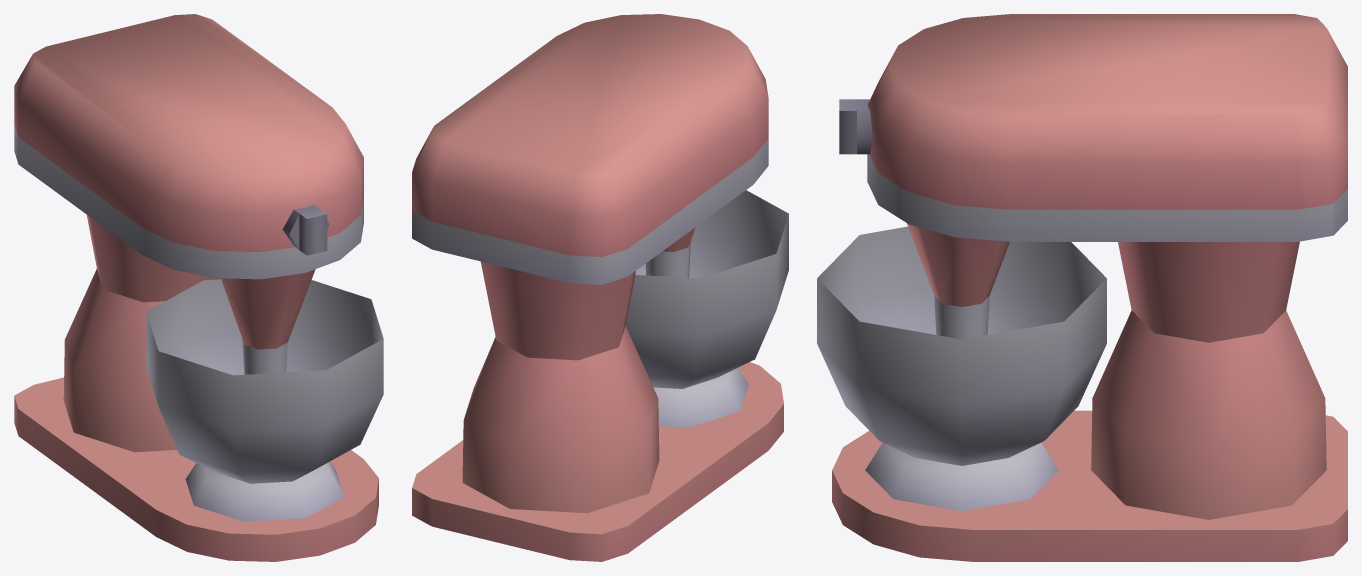
File: baking-machine.glb
3 views of the same model, side by side, from view 1: azimuth 30°, elevation 25°; view 2: azimuth 150°, elevation 25°; view 3: azimuth 270°, elevation 25° (orthographic). The views are drawn at different scales.
Visible parts, largest first — view 1: baking-machine; view 2: baking-machine; view 3: baking-machine.
Boxes of the visible parts, x1,y1,x2,y2 form: baking-machine: [14, 14, 383, 561]; baking-machine: [412, 14, 788, 561]; baking-machine: [817, 14, 1347, 561].
Size of the model in its own units: 0.2051 by 0.3417 by 0.3756.
